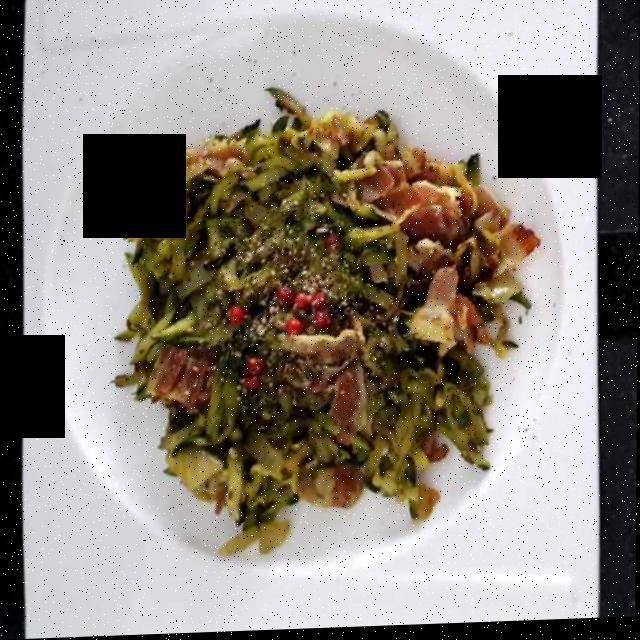zucchini: (120, 103, 521, 549)
